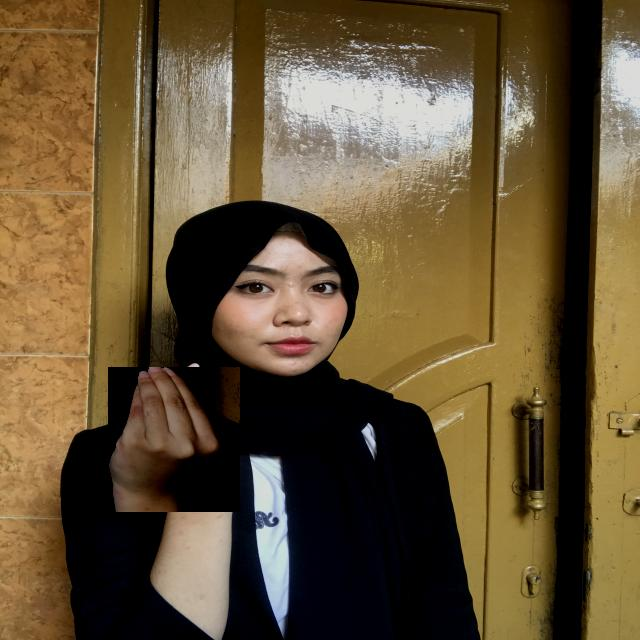kapan: (108, 367, 240, 512)
